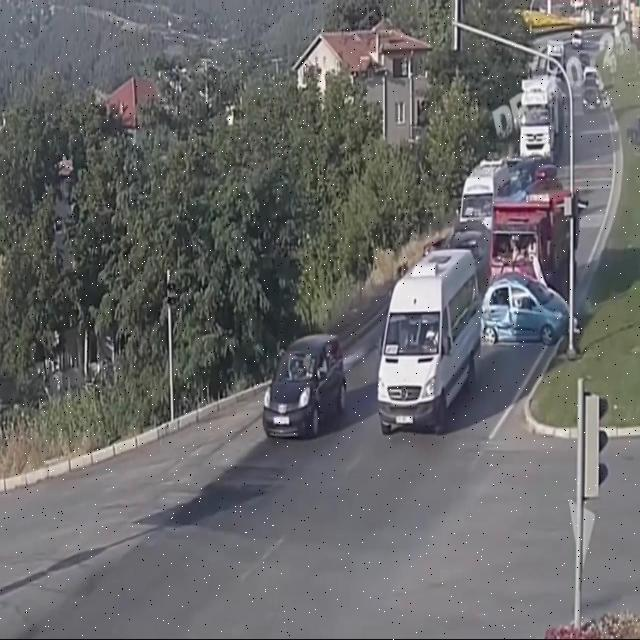severe: (474, 178, 590, 344)
